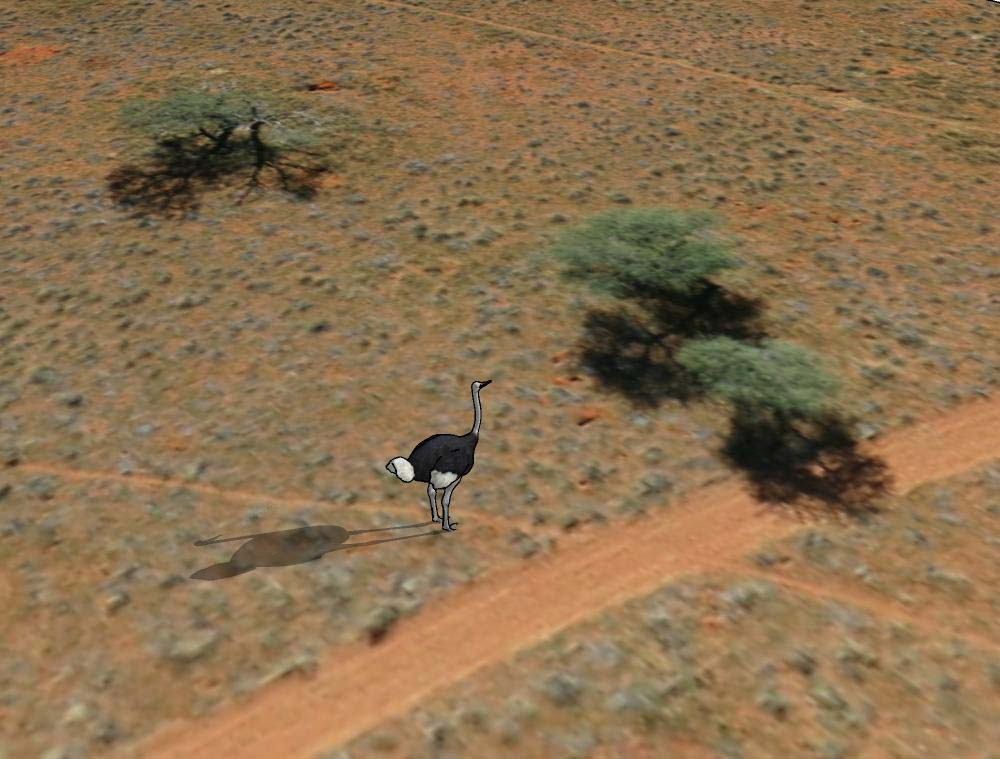ostrich: (383, 374, 503, 535)
